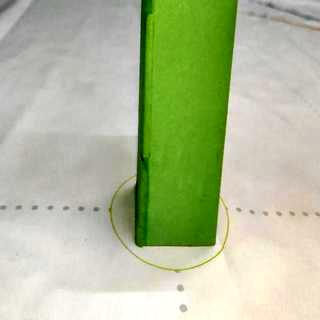greenbox: (133, 0, 233, 247)
